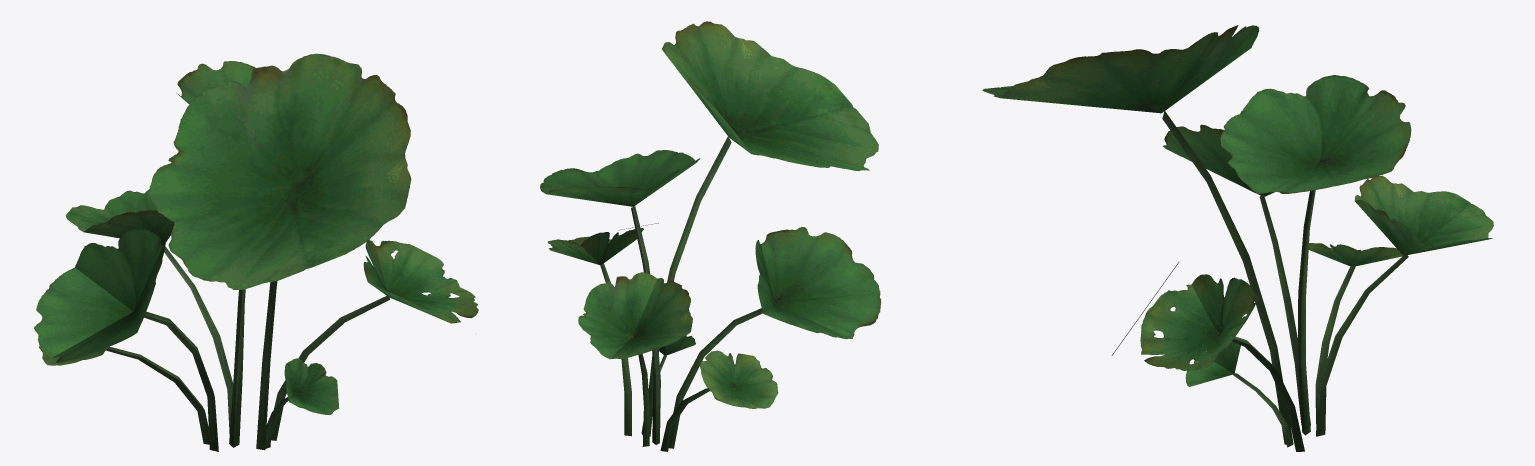
Rendered from 7001_Item_cao_1.FBX.
3 renders of one model, left to right at view 1: azimuth 30°, elevation 25°; view 2: azimuth 150°, elevation 25°; view 3: azimuth 270°, elevation 25°, orthographic. The views are drawn at different scales.
Visible parts, largest first — view 1: 7001_Item_cao_1; view 2: 7001_Item_cao_1; view 3: 7001_Item_cao_1.
Boxes of the visible parts, left/top/right/bottom form: 7001_Item_cao_1: left=34, top=53, right=478, bottom=451; 7001_Item_cao_1: left=540, top=21, right=881, bottom=451; 7001_Item_cao_1: left=982, top=25, right=1493, bottom=451.
Bounding box in the file's own units: 344 × 332 × 386.
